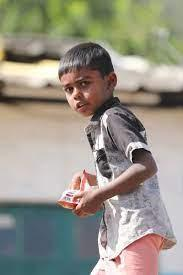Human: (49, 34, 172, 275)
